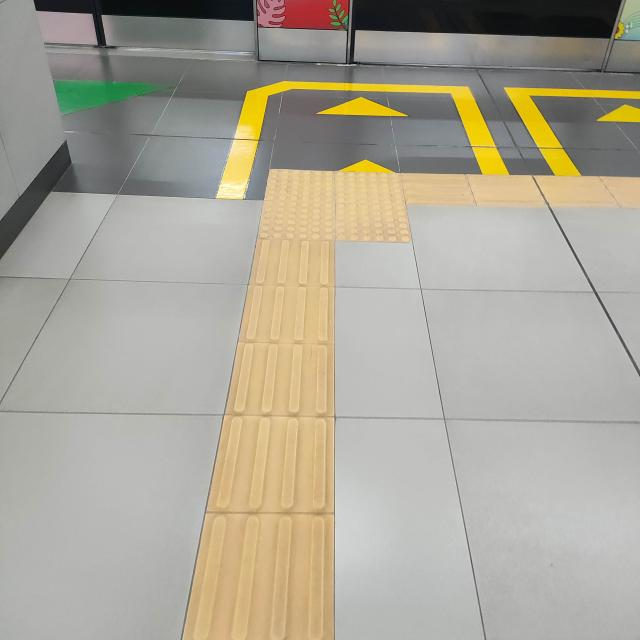kanan: (242, 148, 504, 279)
